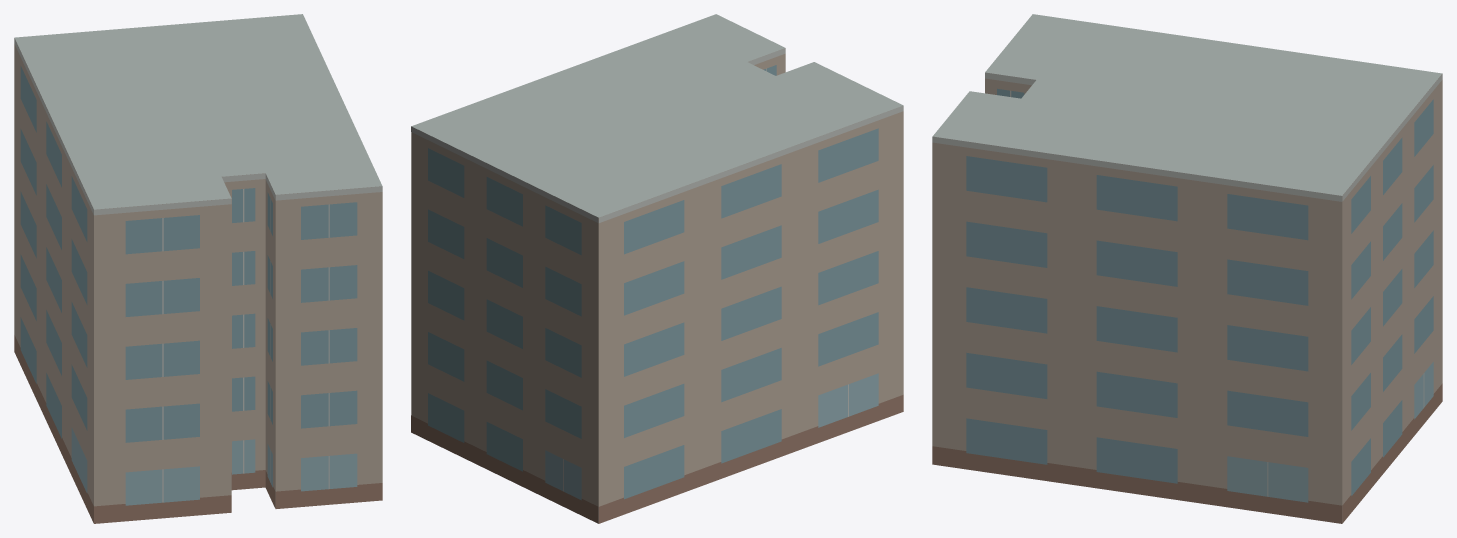
The model's file is survey-upis-33000059.glb.
The picture shows the model from 3 angles, left to right: view 1: azimuth 30°, elevation 25°; view 2: azimuth 150°, elevation 25°; view 3: azimuth 270°, elevation 25°; orthographic projection. The views are drawn at different scales.
Parts seen in each view (by area): view 1: survey-upis-33000059.tmp; view 2: survey-upis-33000059.tmp; view 3: survey-upis-33000059.tmp.
Part boxes in pixels (<box>): survey-upis-33000059.tmp: <box>14,14,382,523</box>; survey-upis-33000059.tmp: <box>411,14,903,523</box>; survey-upis-33000059.tmp: <box>932,14,1442,523</box>.
Bounding box in the file's own units: 15.83 × 13.3 × 18.76.
